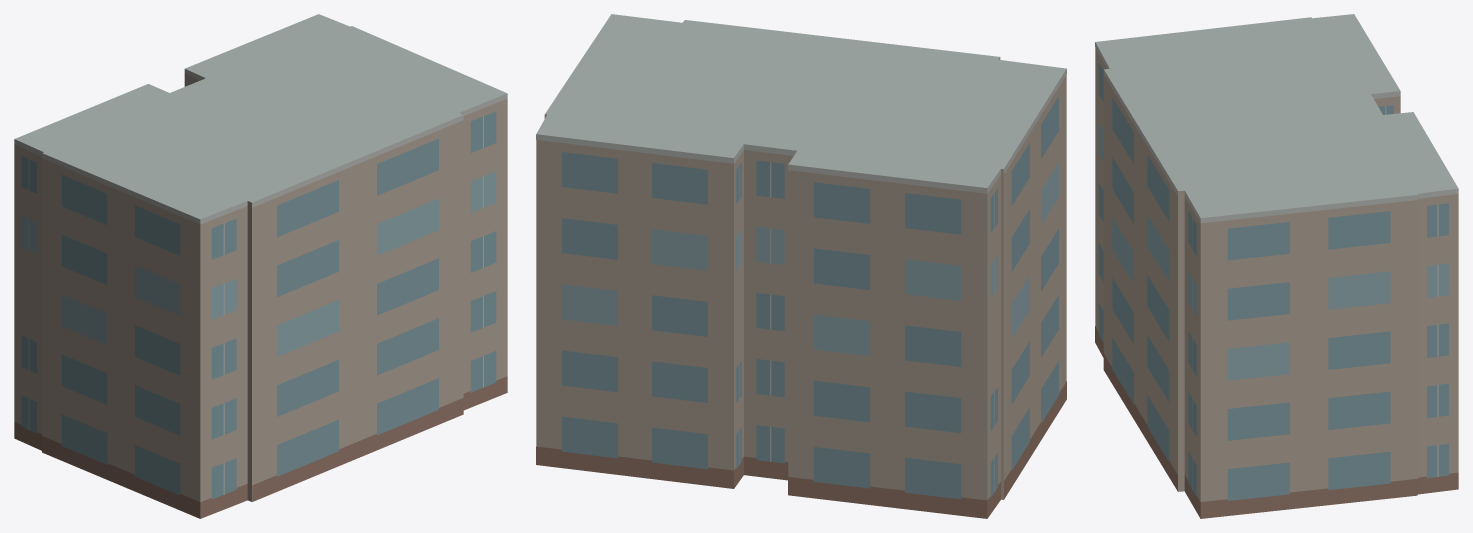
File: survey-upis-32710403.glb
3 views of the same model, side by side, from view 1: azimuth 30°, elevation 25°; view 2: azimuth 150°, elevation 25°; view 3: azimuth 270°, elevation 25° (orthographic). The views are drawn at different scales.
Visible parts, largest first — view 1: survey-upis-32710403.tmp; view 2: survey-upis-32710403.tmp; view 3: survey-upis-32710403.tmp.
Boxes of the visible parts, bbox=[...] form: survey-upis-32710403.tmp: bbox=[14, 14, 507, 518]; survey-upis-32710403.tmp: bbox=[536, 14, 1066, 518]; survey-upis-32710403.tmp: bbox=[1095, 14, 1458, 518].
Bounding box in the file's own units: 20.69 × 14.2 × 15.57.
